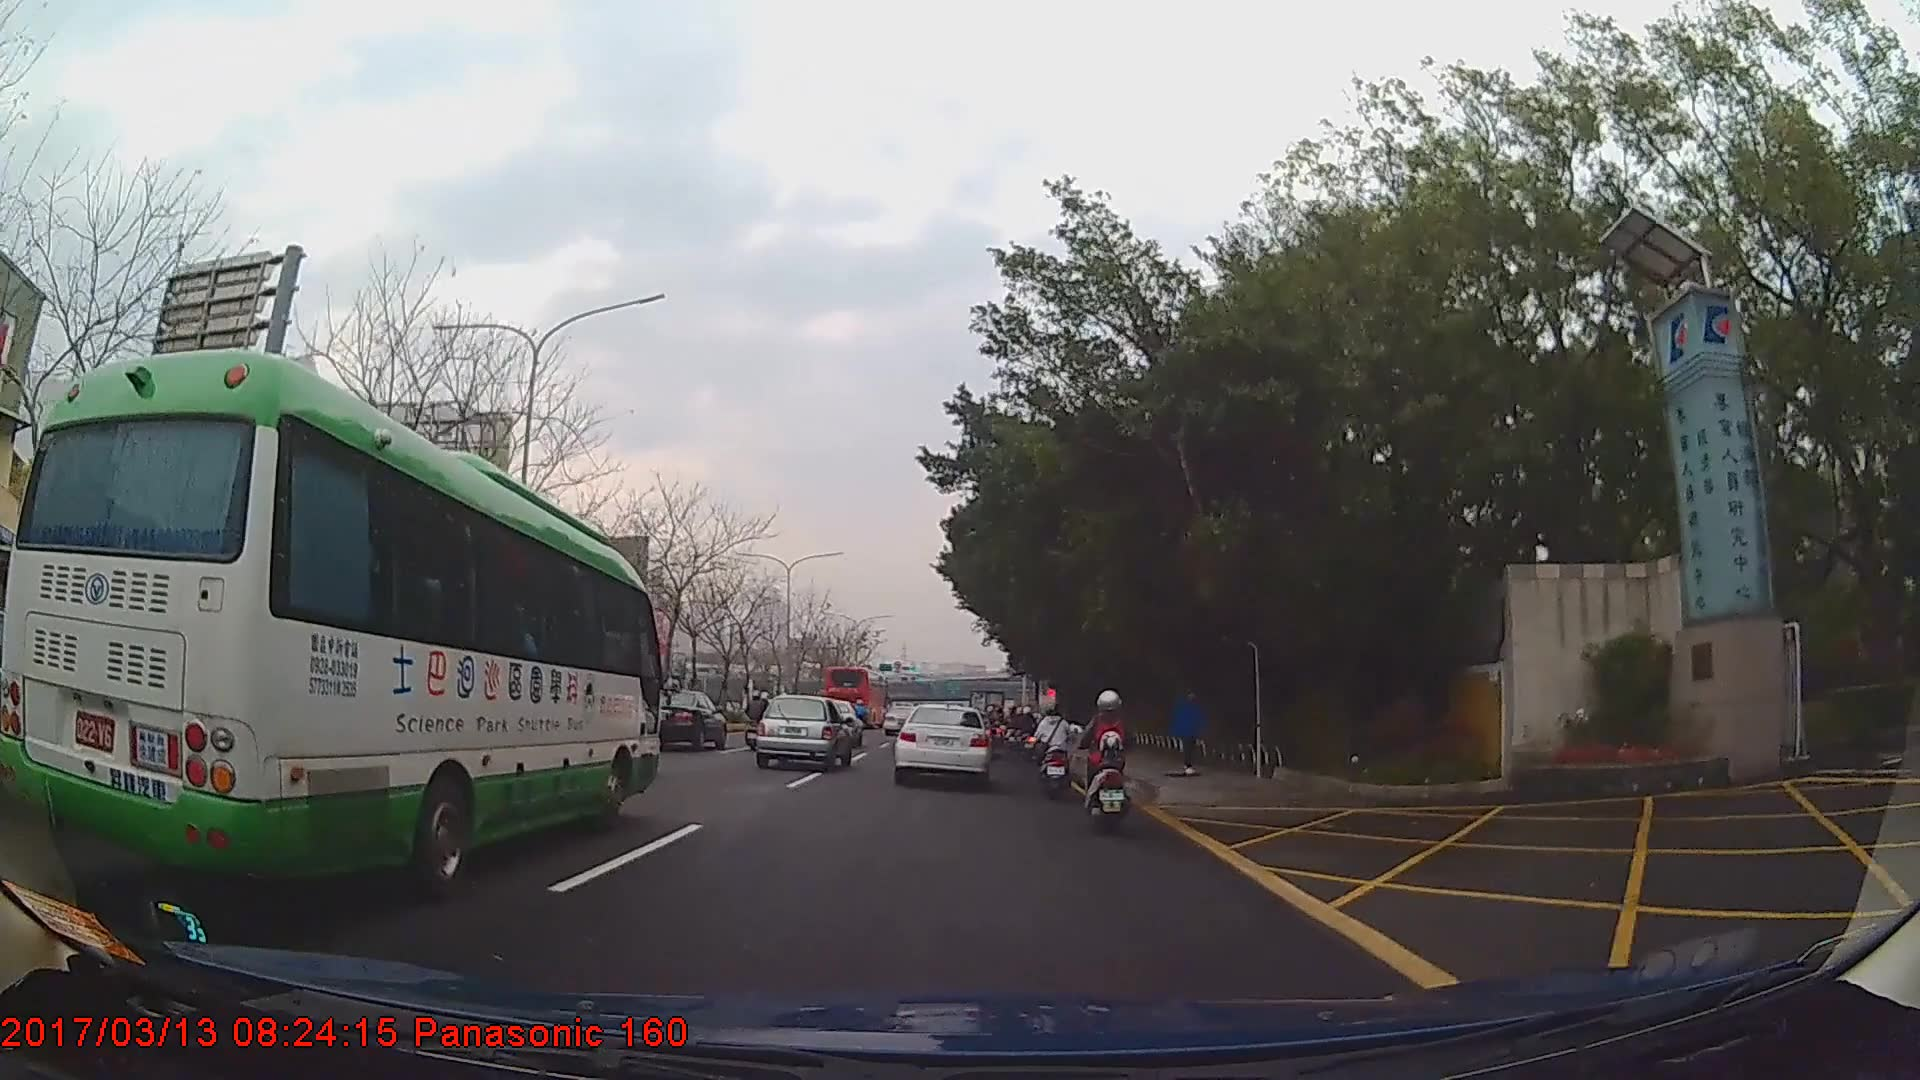pedestrian: (1175, 687, 1209, 775)
rider: (1078, 690, 1133, 832), (1037, 704, 1077, 802), (747, 691, 771, 743)
vehicle: (11, 343, 660, 897), (891, 701, 991, 787), (753, 692, 852, 769), (639, 683, 728, 749), (823, 661, 890, 726)
